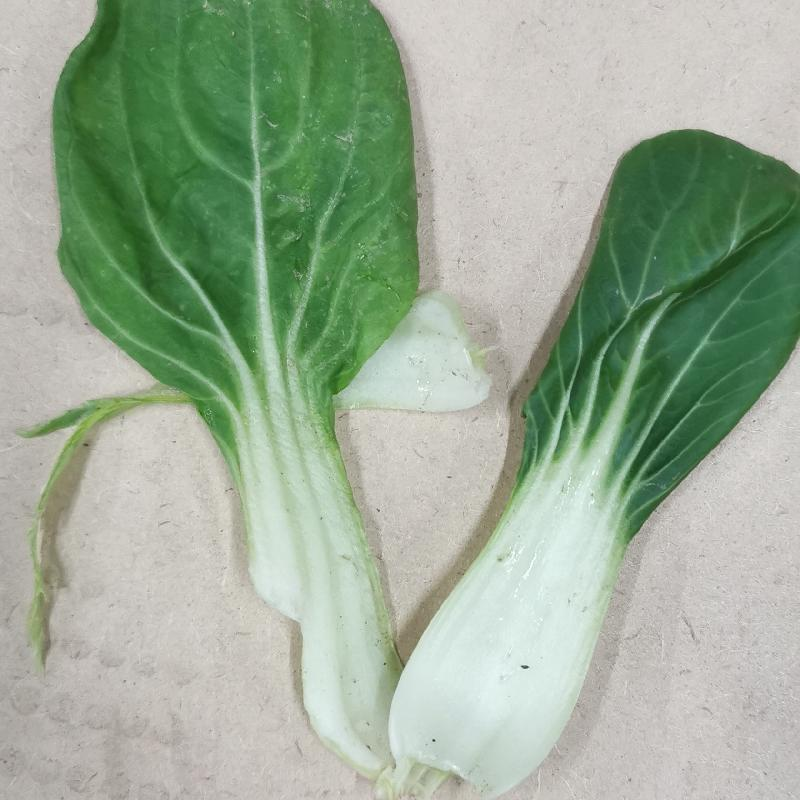green vegatable: (43, 3, 800, 799)
